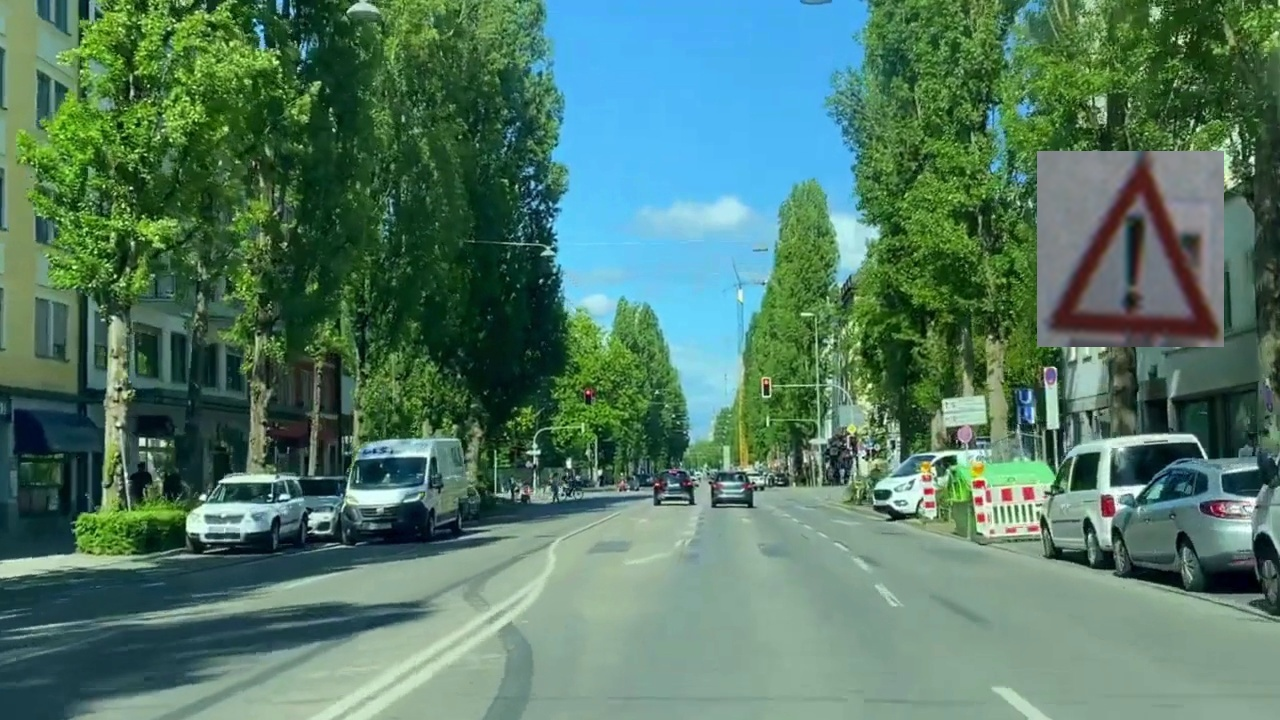Caution: (1037, 151, 1224, 347)
